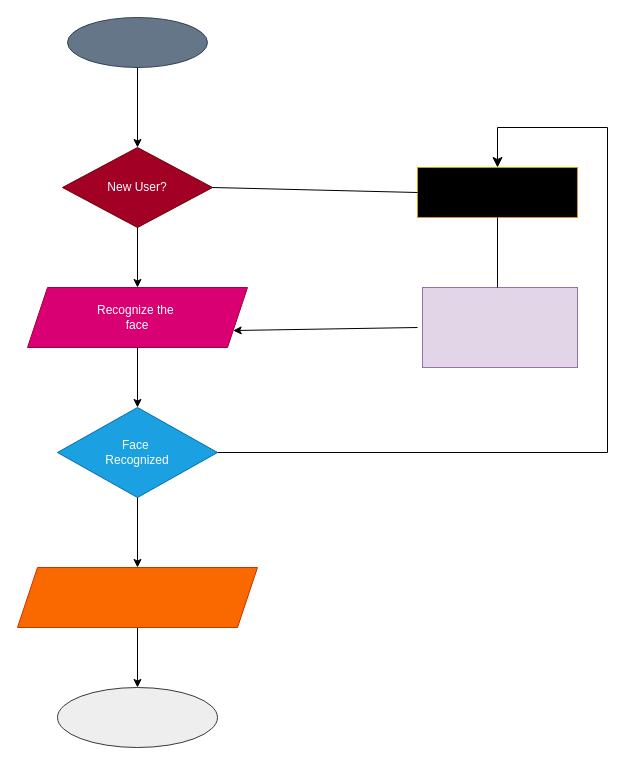
Image size: 635x765. Some labels were removed from this diagram. Each missing label, with the centre of its shape:
Start: (x=137, y=42)
Stored in csv file with Registration Number & Date Time of Entry: (x=137, y=597)
